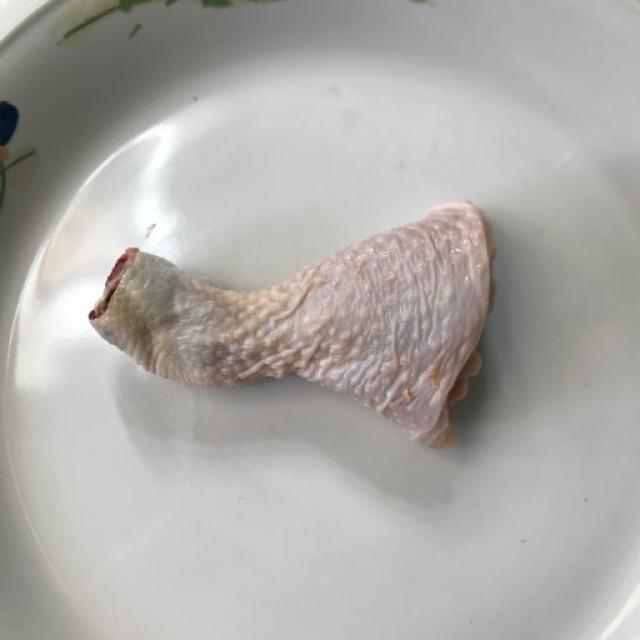chicken: (87, 198, 496, 451)
